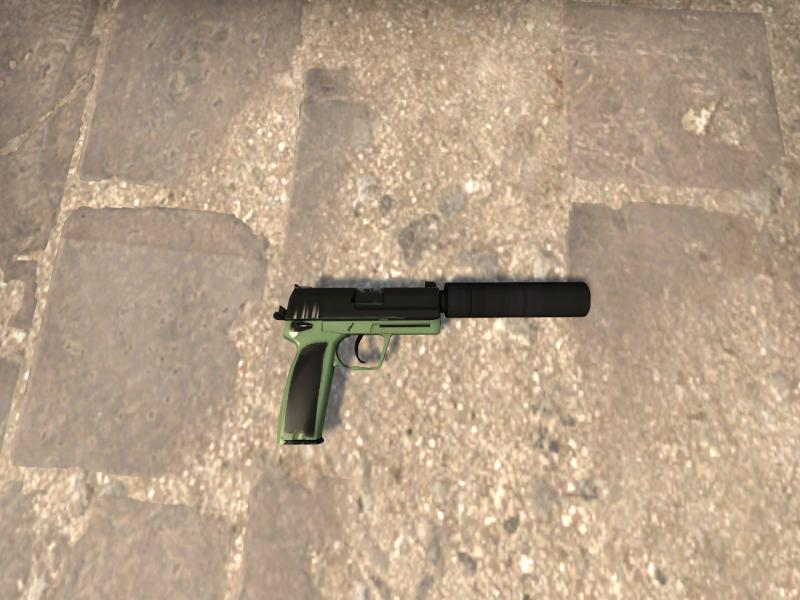USP: (274, 282, 591, 444)
